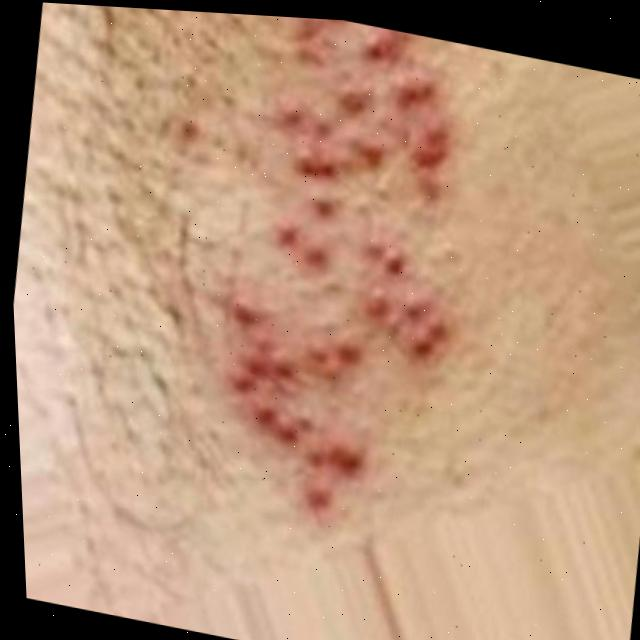Shingles: (210, 12, 495, 508)
